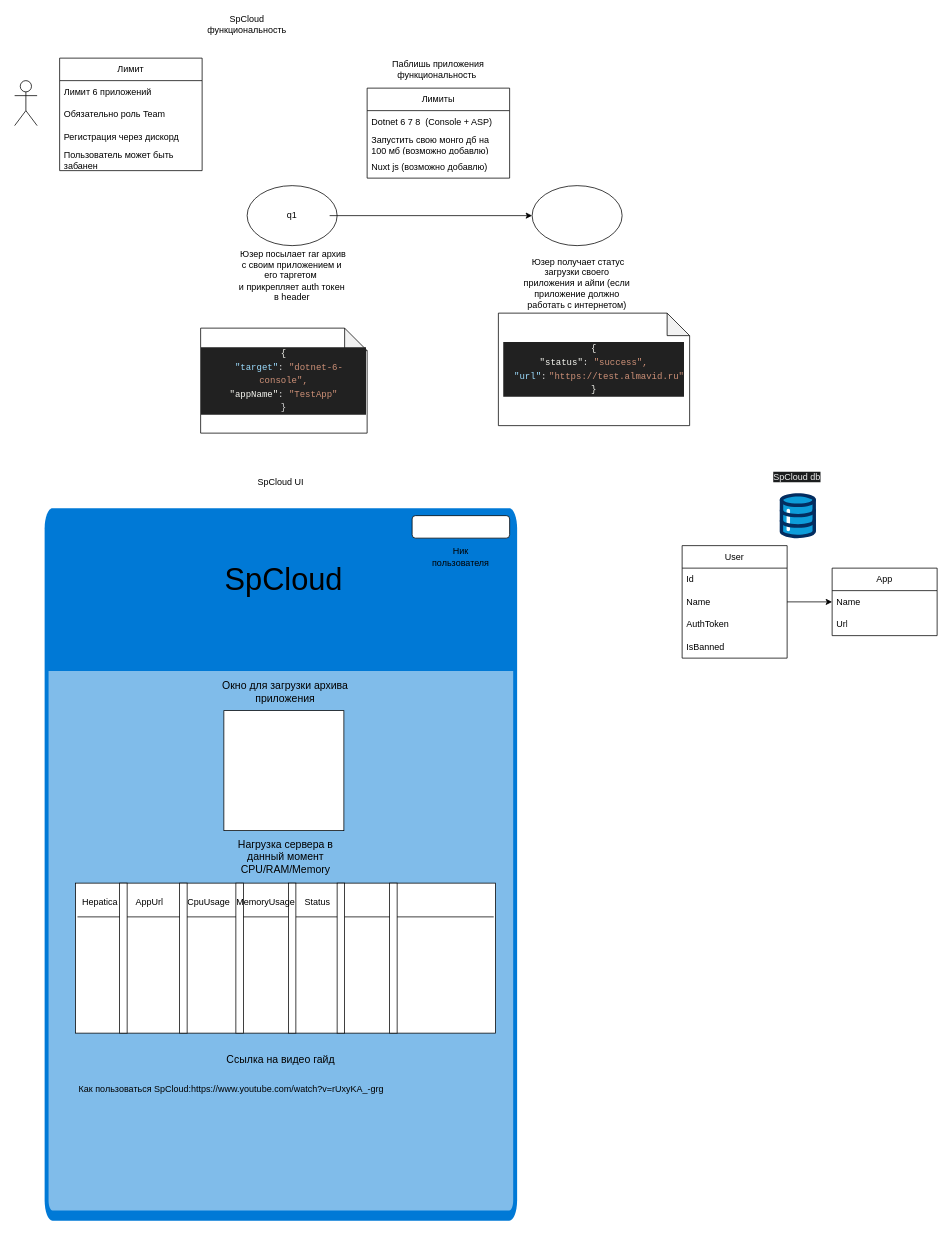
This 950x1233 diagram has some shape labels left out. Each missing label, with the centre of its shape:
"q2" belongs at pixel 576 215.
"Зарегистрироваться" belongs at pixel 460 526.
"Юзер" belongs at pixel 25 103.
